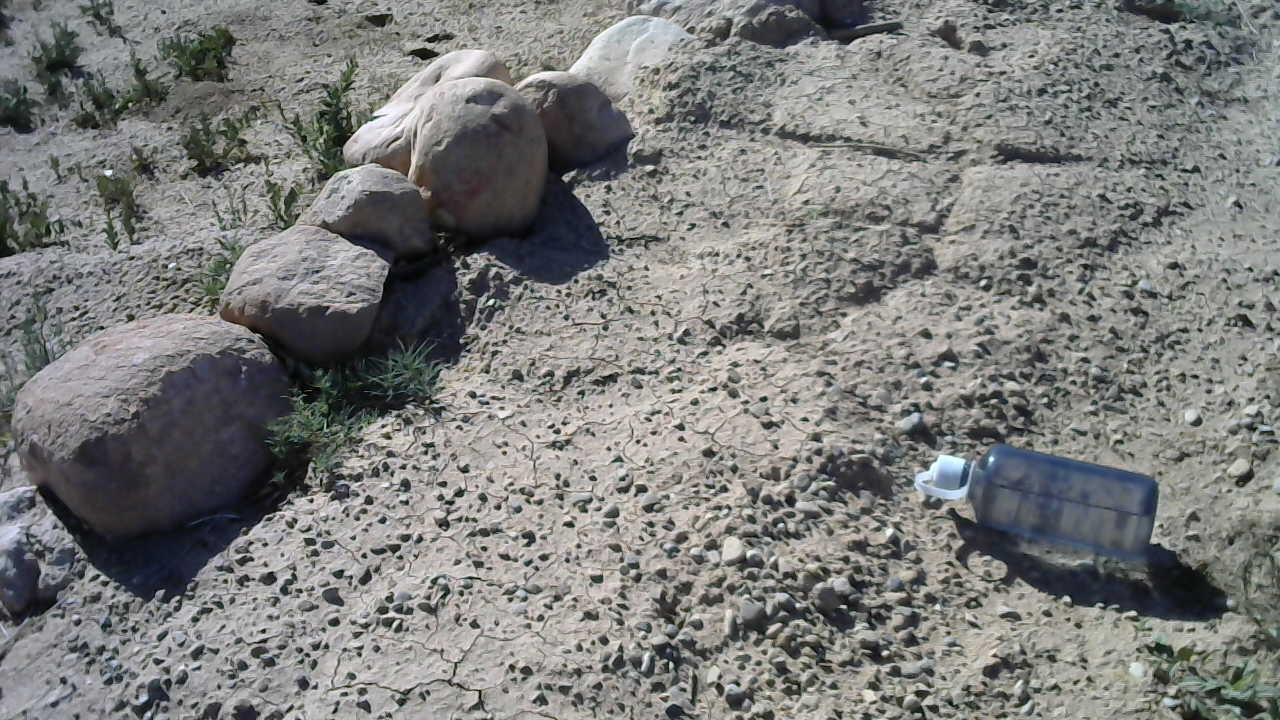bottle: (909, 436, 1168, 566)
